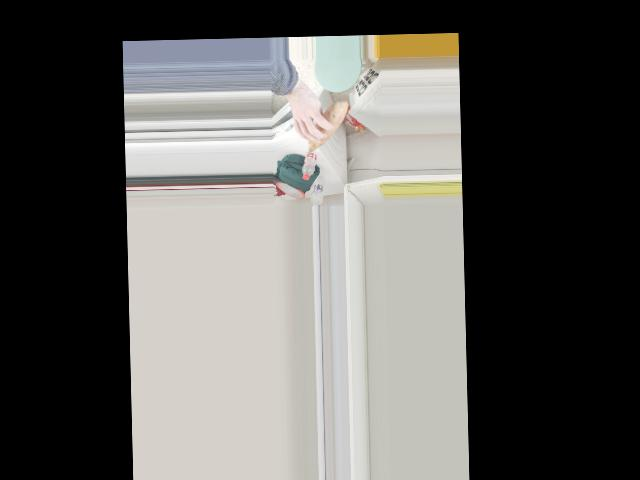sweet_potato: (296, 107, 347, 150)
